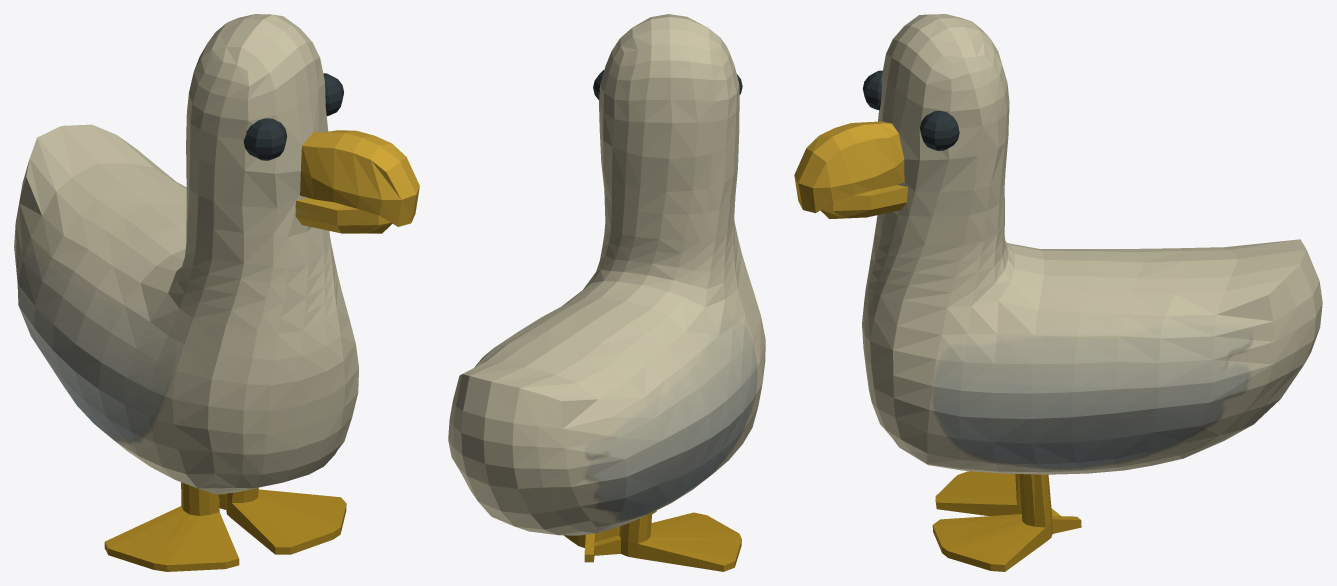
File: Seagull.obj
3 views of the same model, side by side, from view 1: azimuth 30°, elevation 25°; view 2: azimuth 150°, elevation 25°; view 3: azimuth 270°, elevation 25° (orthographic). The views are drawn at different scales.
Parts seen in each view (by area): view 1: Seagull1; view 2: Seagull1; view 3: Seagull1.
Part boxes in pixels (x1,y1,x2,y2): Seagull1: (14, 14, 419, 571); Seagull1: (448, 14, 765, 571); Seagull1: (794, 14, 1322, 571).
Size of the model in its own units: 0.4811 by 1.07 by 1.03.
